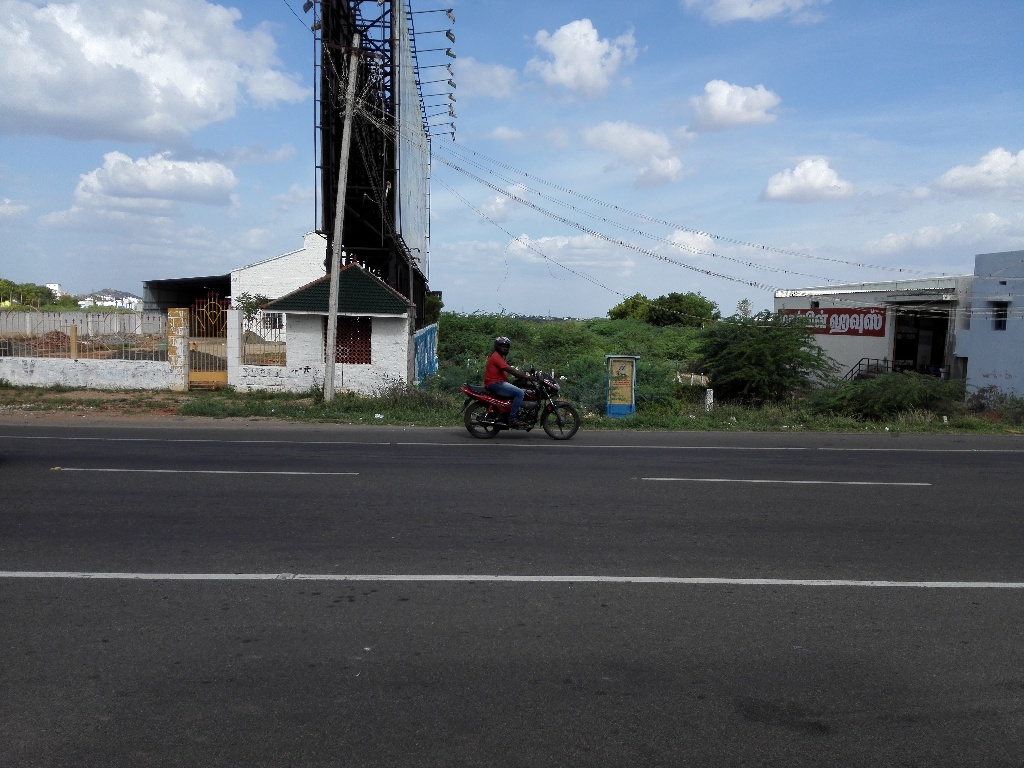biker: (453, 308, 593, 448)
helmet: (487, 321, 522, 370)
